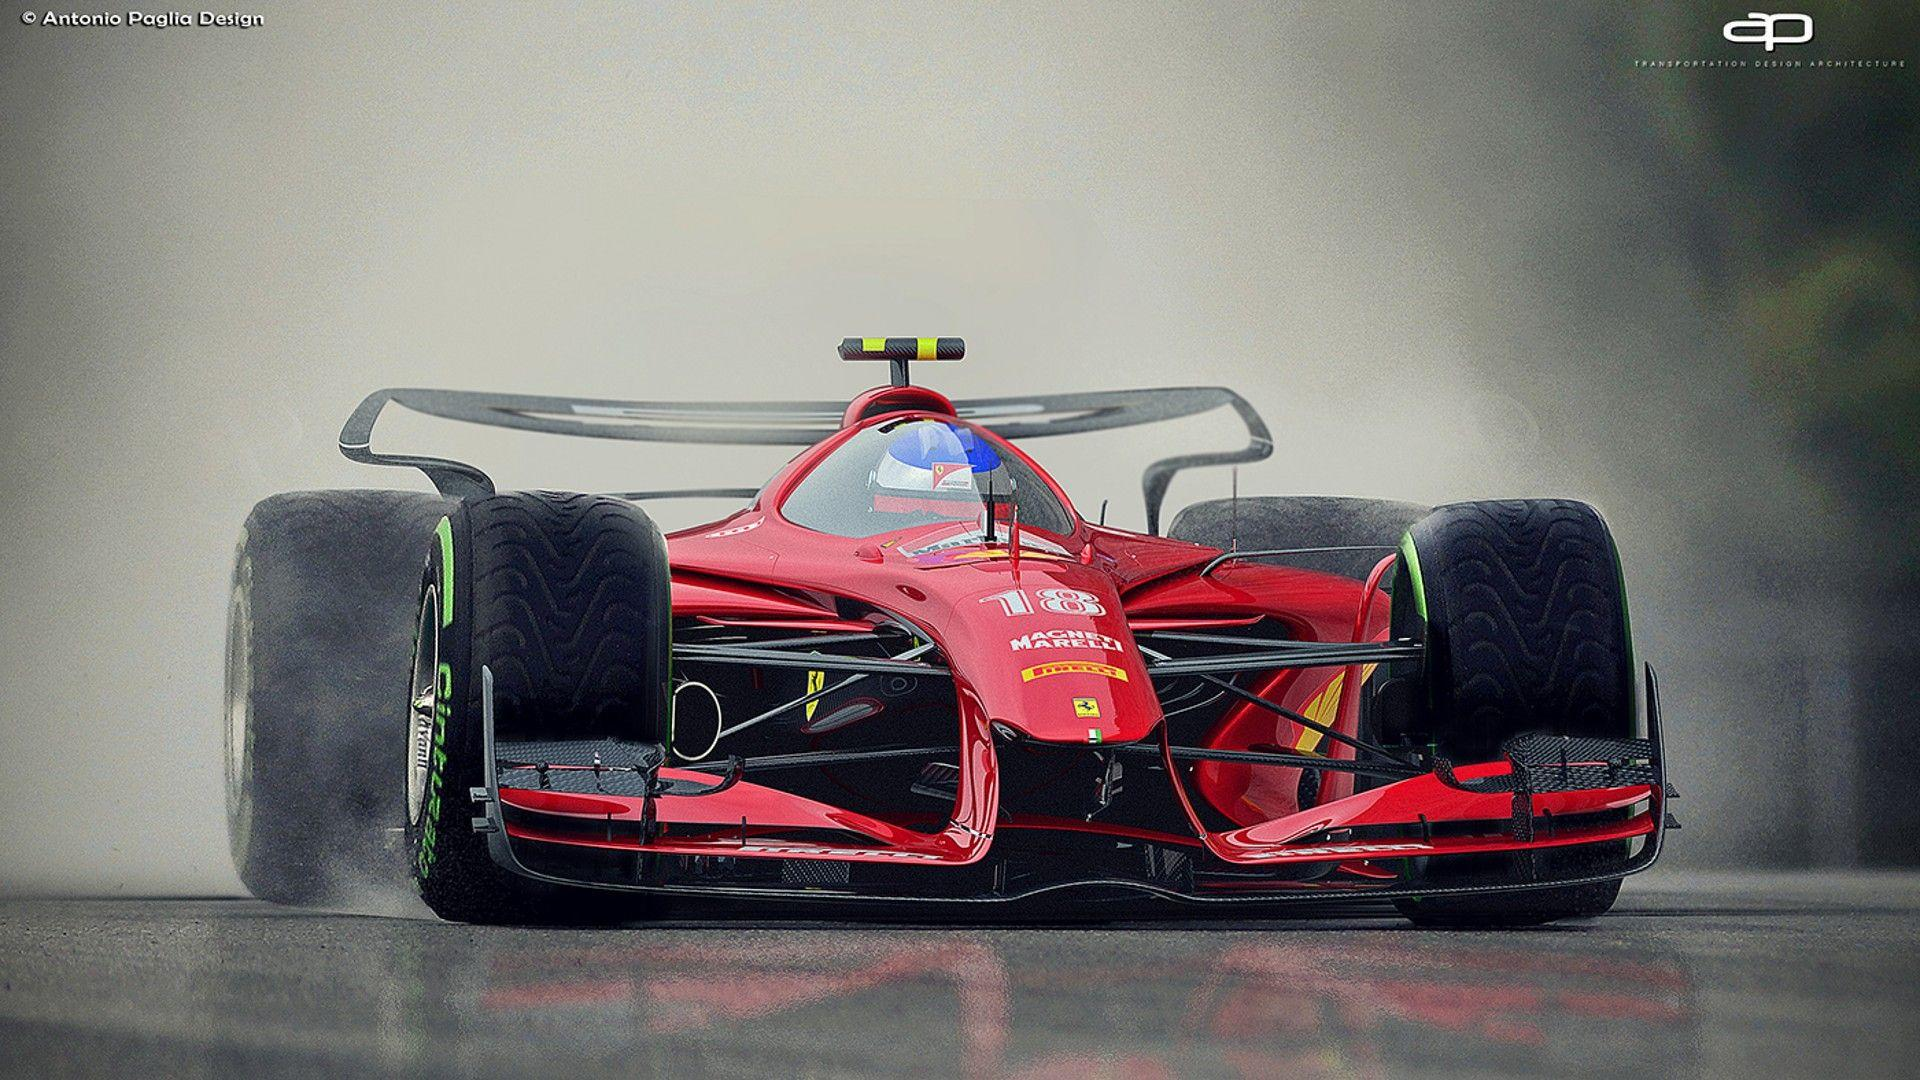f1_car: (185, 297, 1702, 971)
